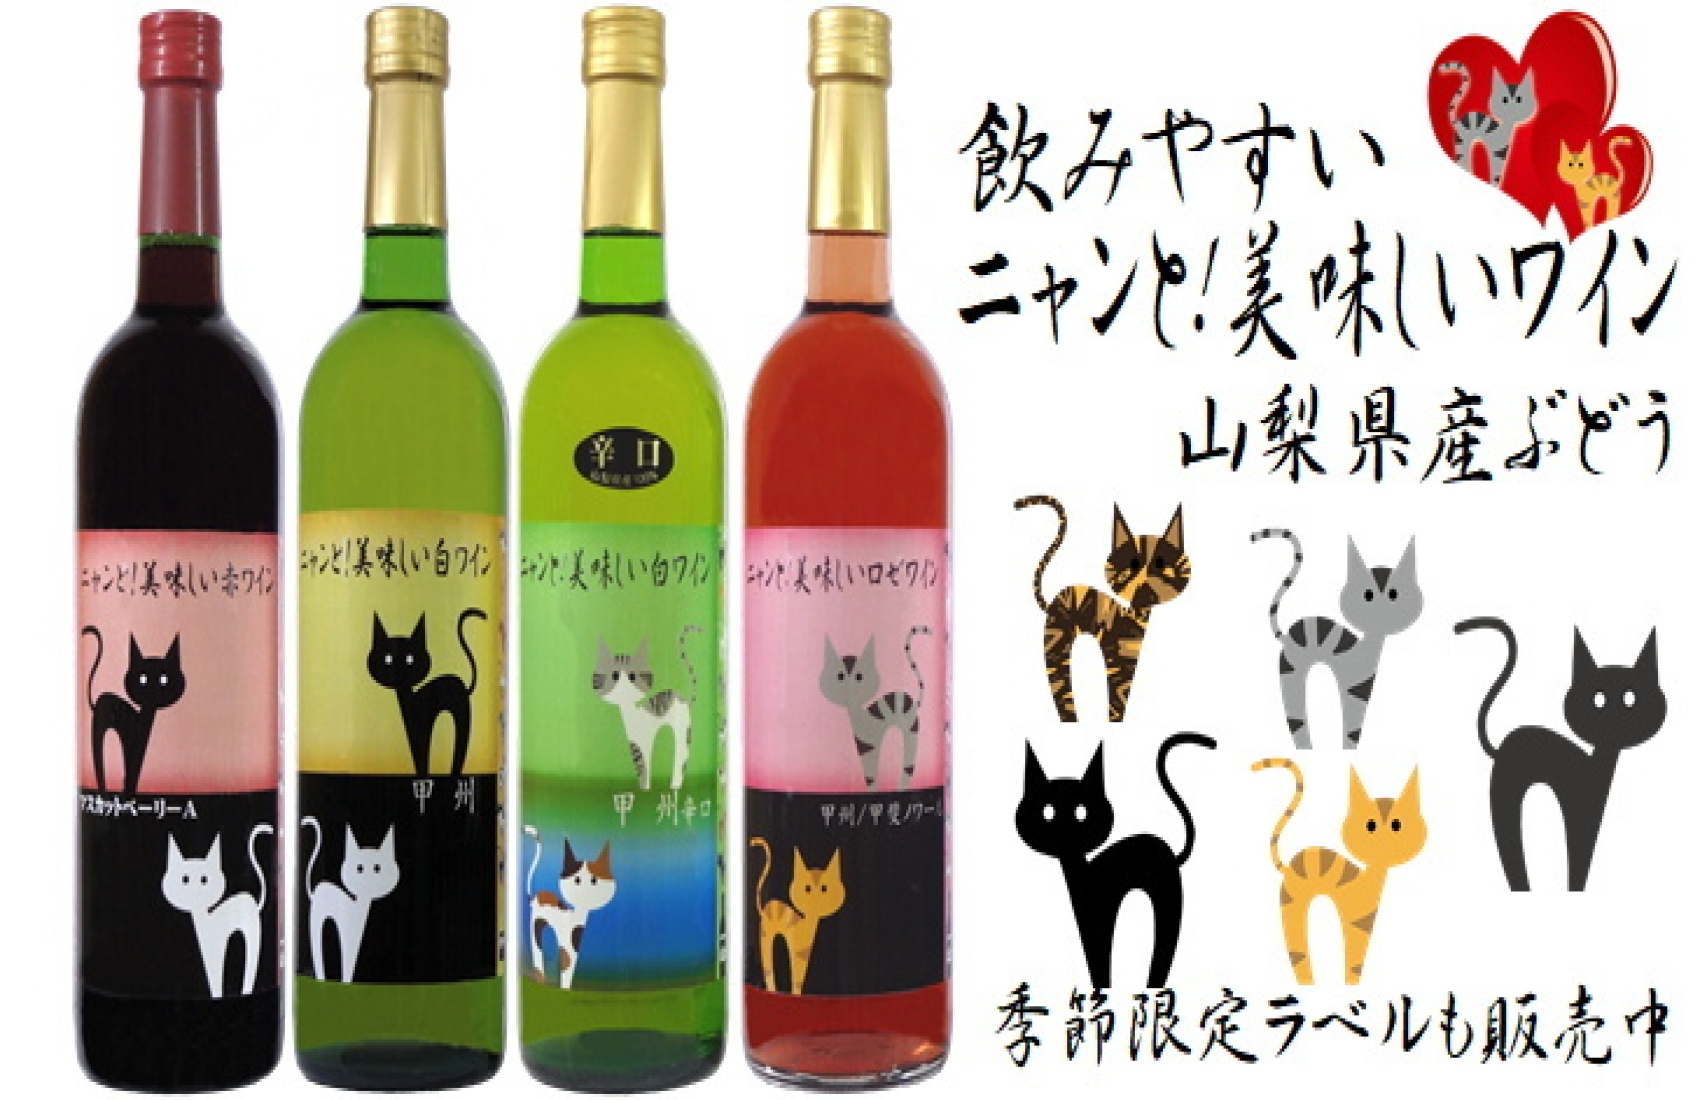wine: (746, 40, 950, 1090), (524, 36, 729, 1086), (302, 50, 506, 1100), (81, 50, 284, 1100)
